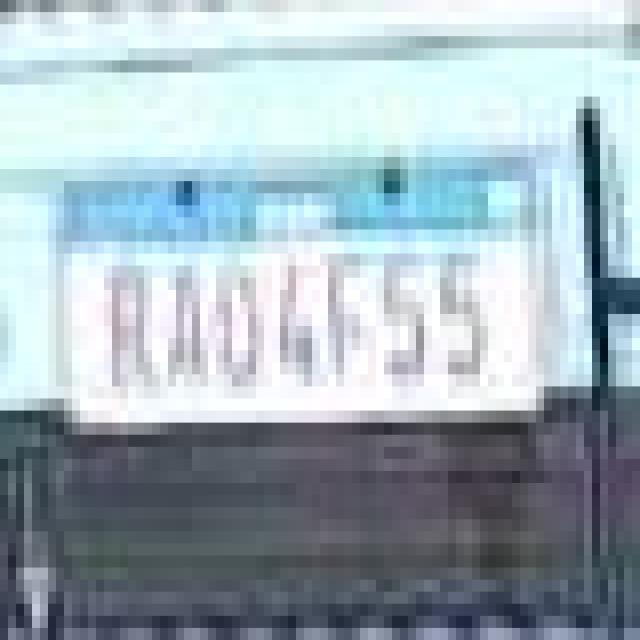4: (273, 252, 317, 390)
5: (433, 246, 488, 388), (375, 250, 427, 392)
A: (163, 259, 210, 392)
F: (327, 250, 369, 388)
O: (214, 258, 261, 391)
R: (103, 252, 157, 388)
